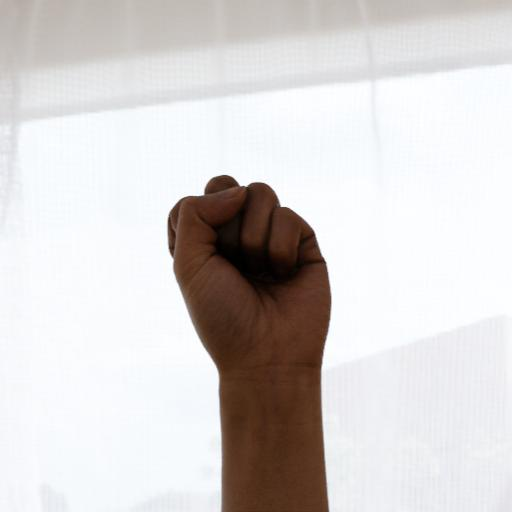S: (148, 162, 367, 486)
